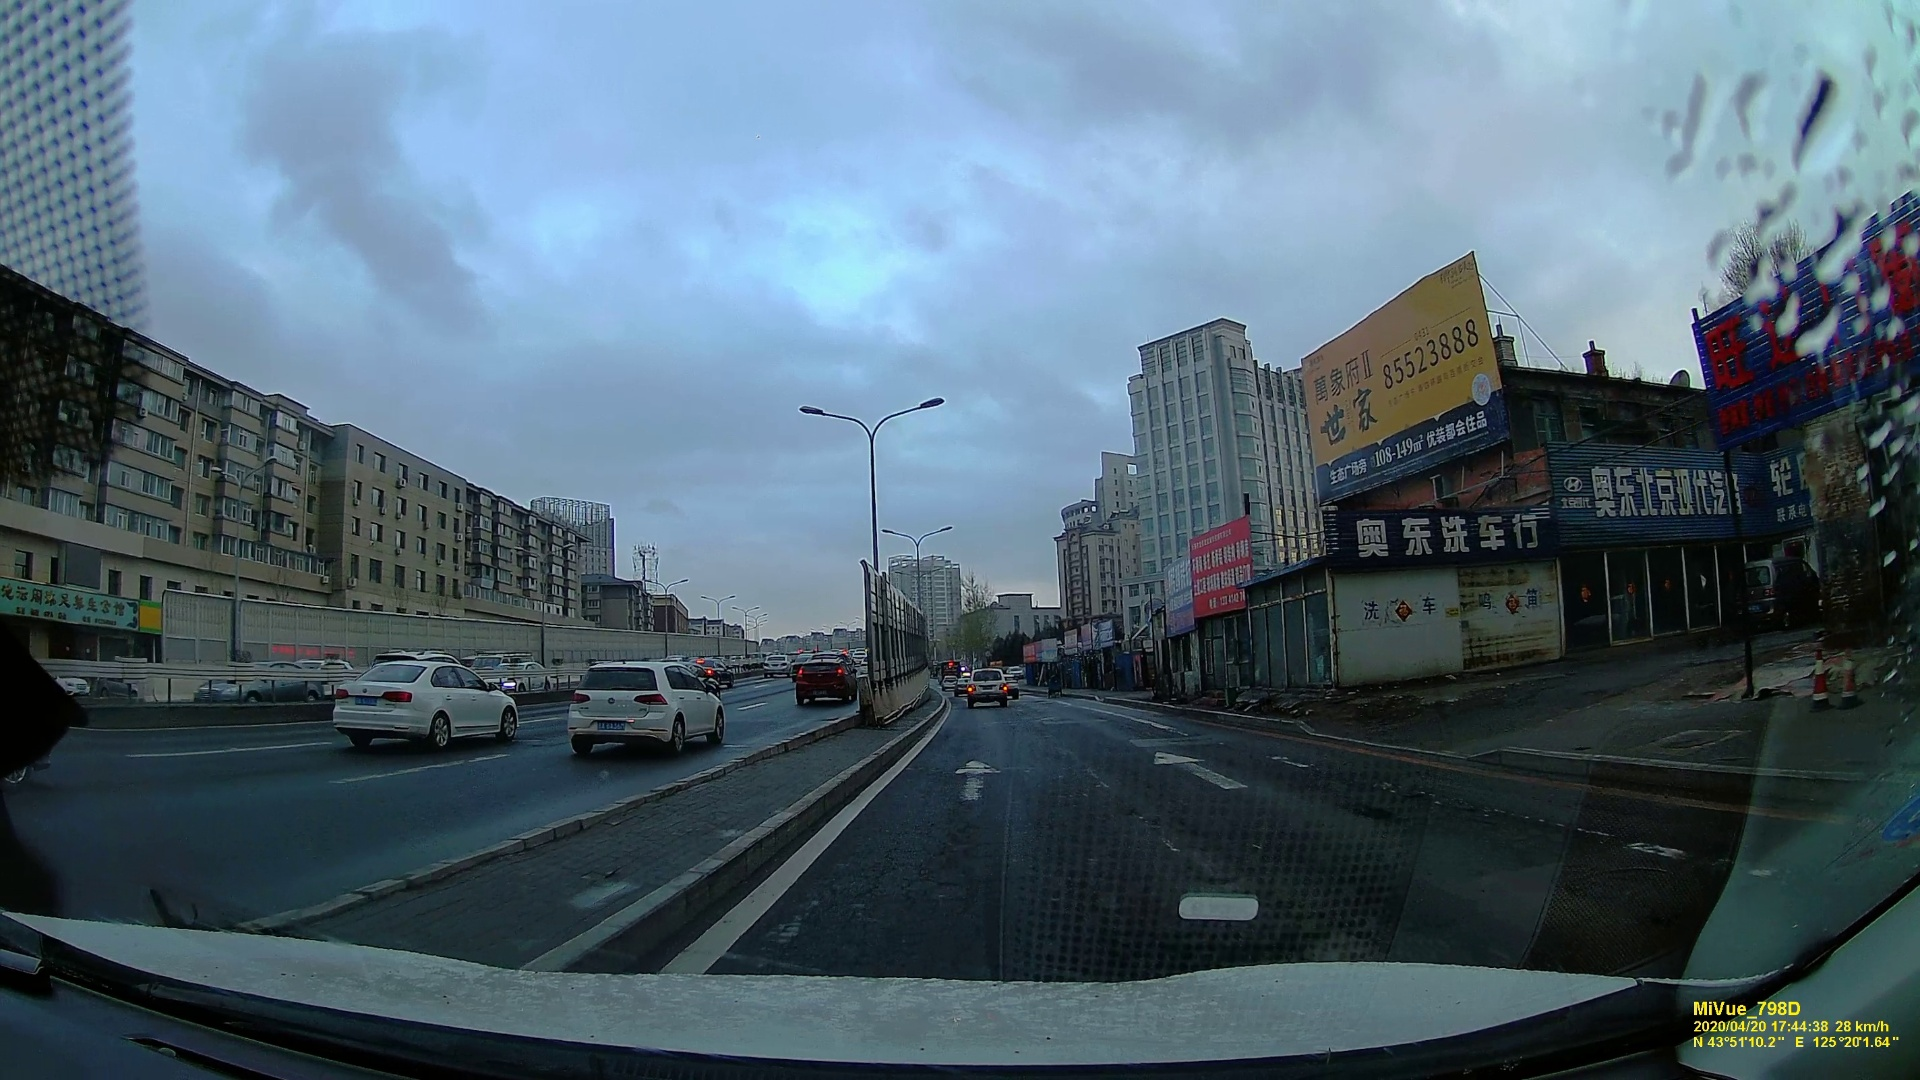vehicle: (331, 655, 513, 749), (564, 655, 725, 756), (190, 659, 320, 703), (794, 657, 857, 705), (964, 669, 1007, 709), (761, 653, 791, 676)
